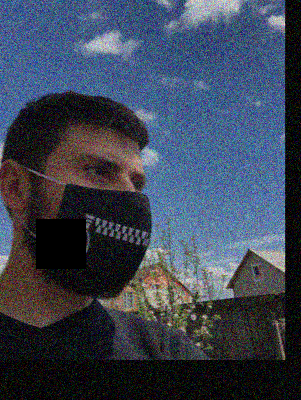with_mask: (42, 148, 152, 300)
